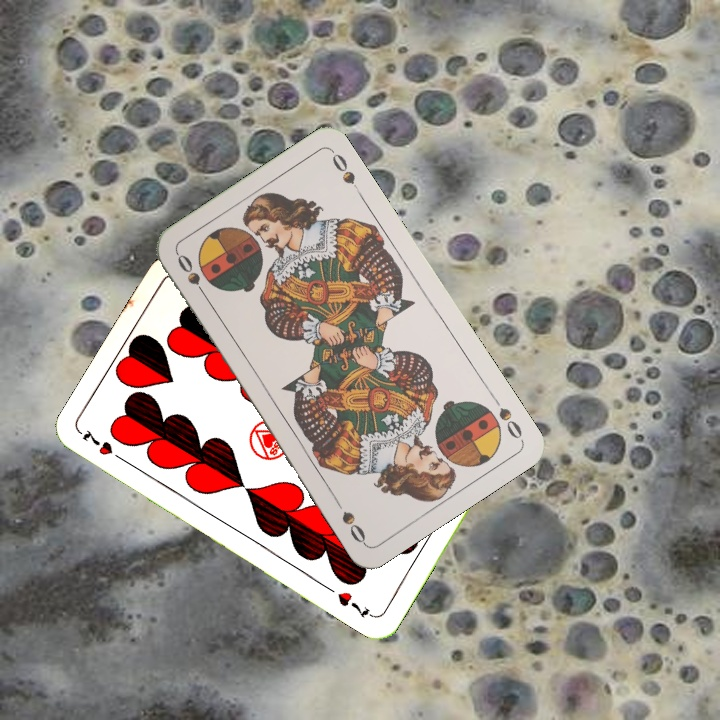H7: (76, 426, 129, 466)
SO: (173, 250, 211, 302), (487, 391, 525, 442)
